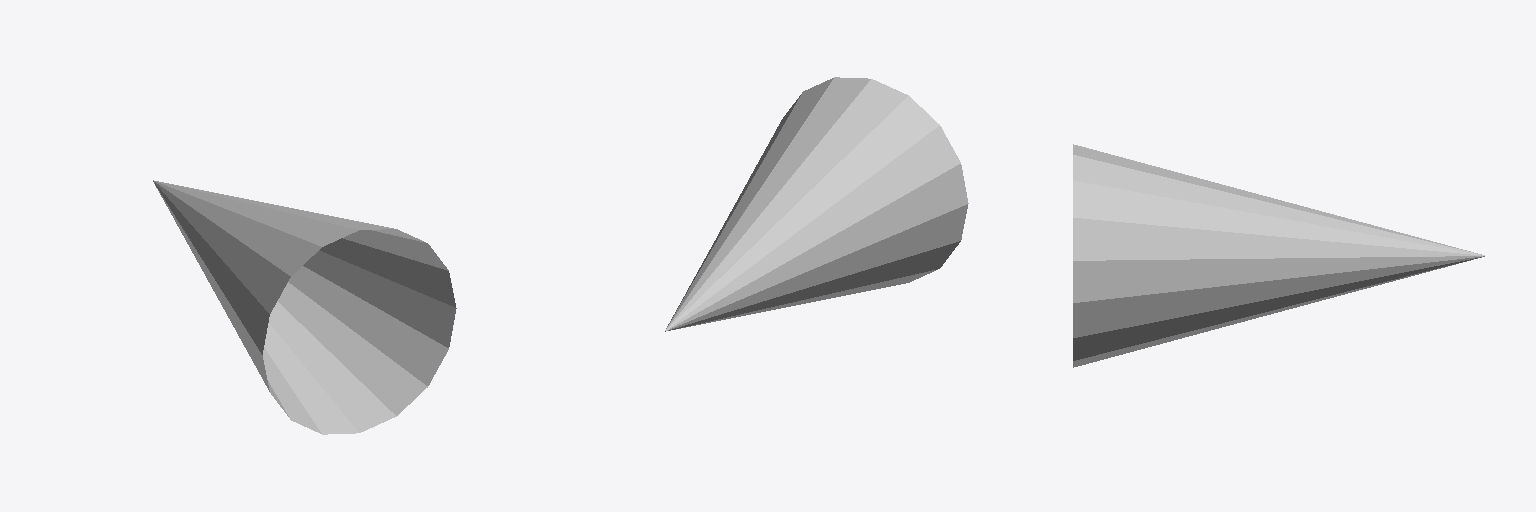
Rendered from SnakeBodyPartTailBottom.obj.
The picture shows the model from 3 angles: view 1: azimuth 30°, elevation 25°; view 2: azimuth 150°, elevation 25°; view 3: azimuth 270°, elevation 25°; orthographic projection.
Parts seen in each view (by area): view 1: Cone; view 2: Cone; view 3: Cone.
Part boxes in pixels (bbox=[...]): Cone: bbox=[153, 180, 456, 434]; Cone: bbox=[665, 77, 968, 331]; Cone: bbox=[1073, 144, 1484, 367].
Bounding box in the file's own units: 0.65 × 0.65 × 1.2.